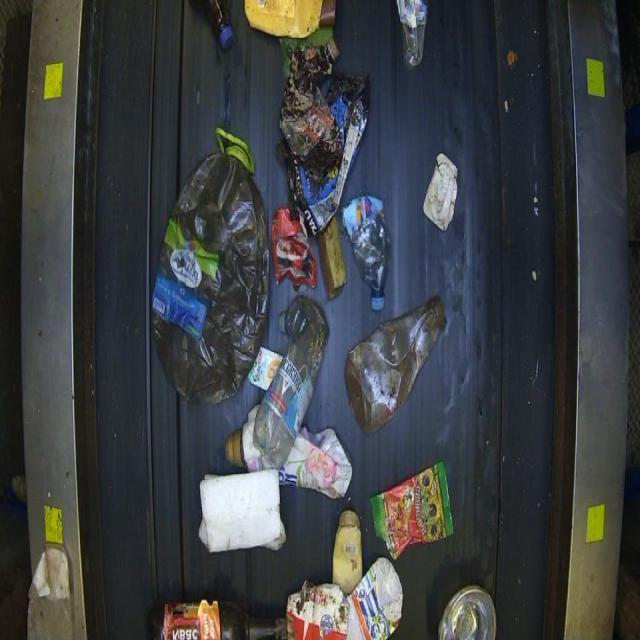Metal-waste: (149, 145, 272, 404)
